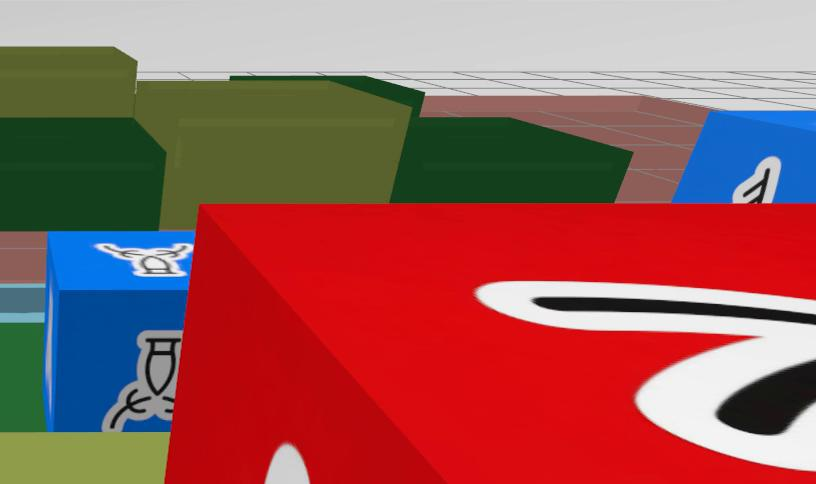KFS_FAKE: (164, 205, 815, 484), (476, 280, 815, 471), (264, 444, 308, 484)
KFS_REAL: (42, 230, 196, 431), (673, 110, 815, 202), (102, 330, 182, 431), (94, 243, 191, 276)
